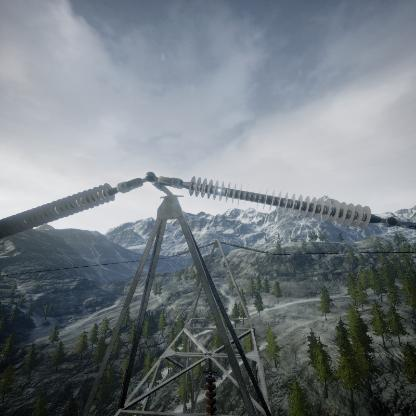insulator: (182, 175, 387, 230), (1, 180, 119, 239)
